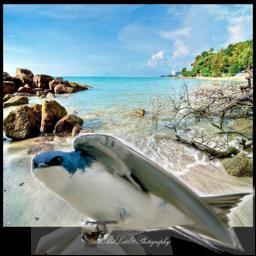Swallow: (31, 133, 255, 255)
